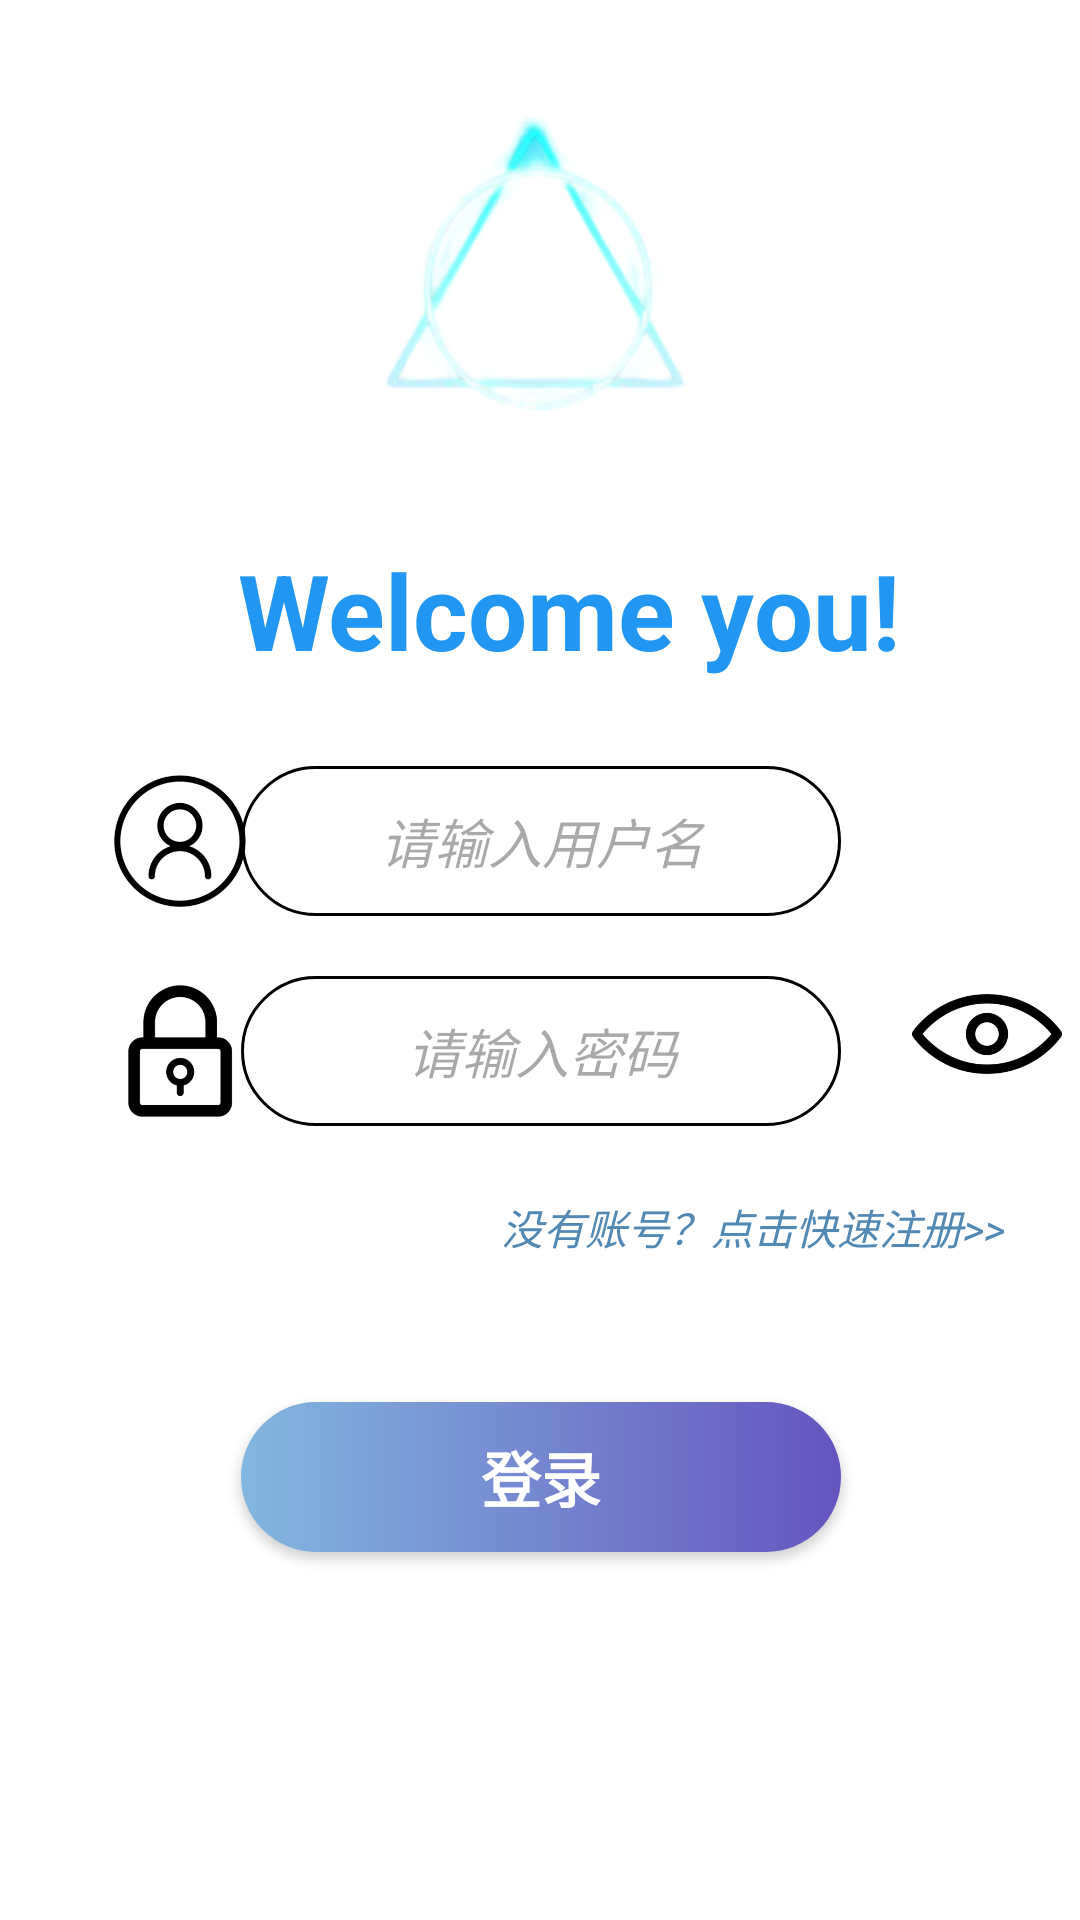

Icon bounding boxes for this 1080*1920 phone screenshot, format (x1, y1, x2, y2):
eye open: (912, 994, 1062, 1074)
password: (128, 985, 232, 1117)
